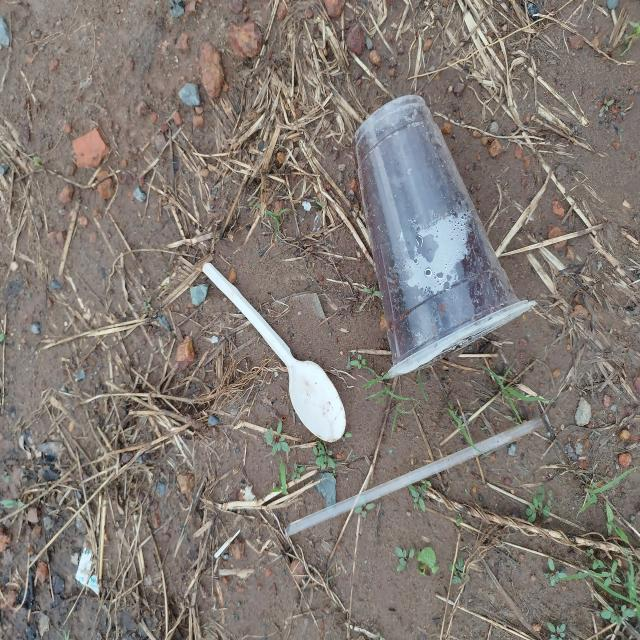drinking straw: (285, 418, 542, 536)
plastic glass: (354, 95, 537, 381)
plastic utensil: (201, 261, 349, 444)
